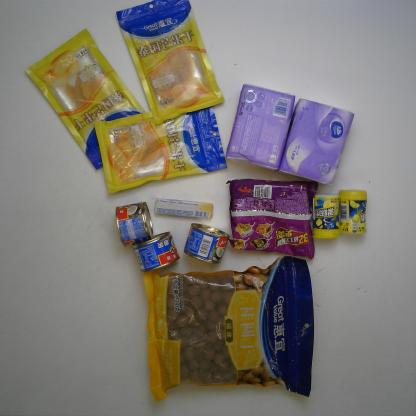Candy: (154, 198, 214, 219)
Canned Food: (132, 230, 181, 273), (183, 223, 230, 264), (115, 200, 155, 247)
Dried Food: (141, 255, 315, 402)
Dried Fruit: (23, 26, 149, 172), (116, 0, 226, 125), (93, 102, 228, 194)
Gum: (310, 192, 342, 242), (338, 188, 368, 236)
Instant Noodles: (225, 176, 319, 260)
Tissue: (277, 98, 356, 185), (224, 84, 296, 172)
